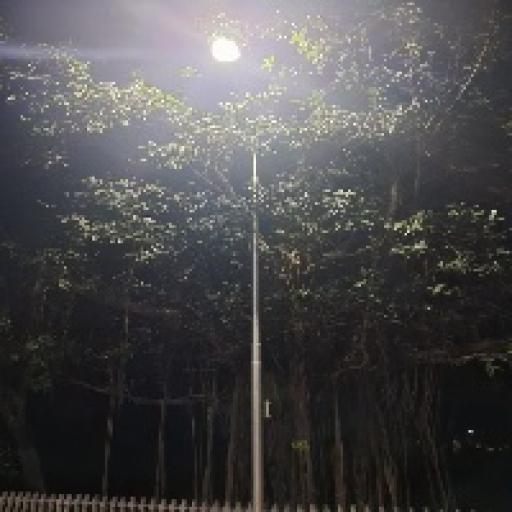Working: (201, 29, 250, 72)
